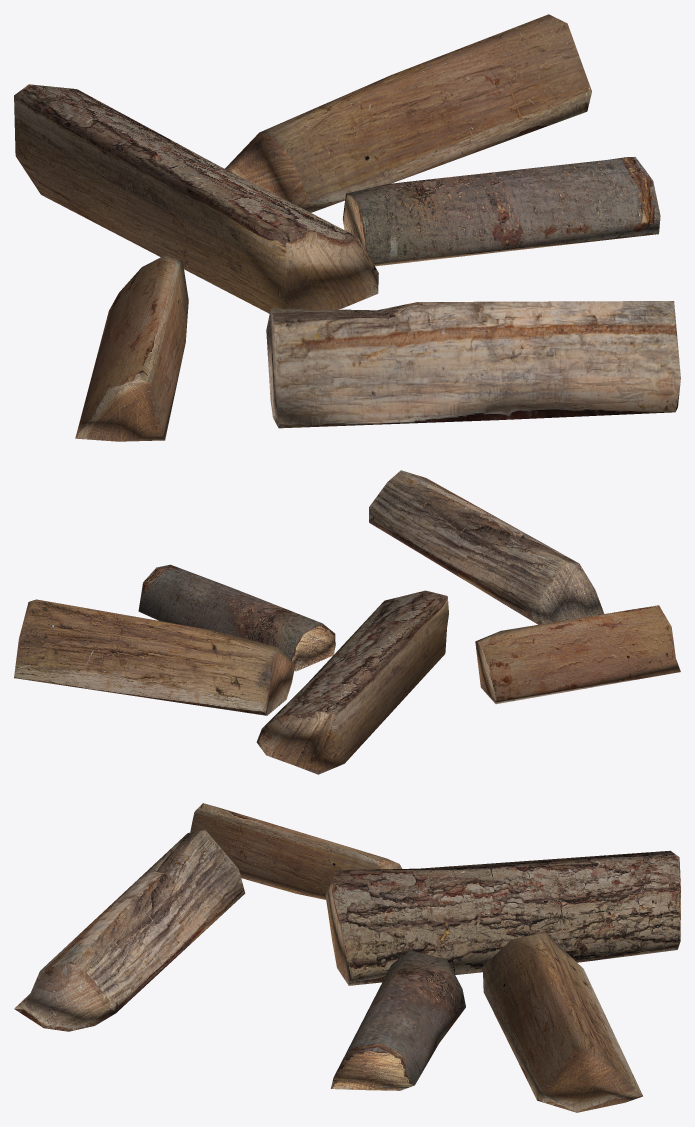
Rendered from Lumber7.fbx.
The picture shows the model from 3 angles, top to bottom: view 1: azimuth 30°, elevation 25°; view 2: azimuth 150°, elevation 25°; view 3: azimuth 270°, elevation 25°; orthographic projection. The views are drawn at different scales.
Parts seen in each view (by area): view 1: polySurface171; view 2: polySurface171; view 3: polySurface171.
Part boxes in pixels (bbox=[...]): polySurface171: bbox=[14, 14, 680, 441]; polySurface171: bbox=[14, 470, 680, 774]; polySurface171: bbox=[14, 803, 680, 1112].
Bounding box in the file's own units: 132 × 17.75 × 134.
